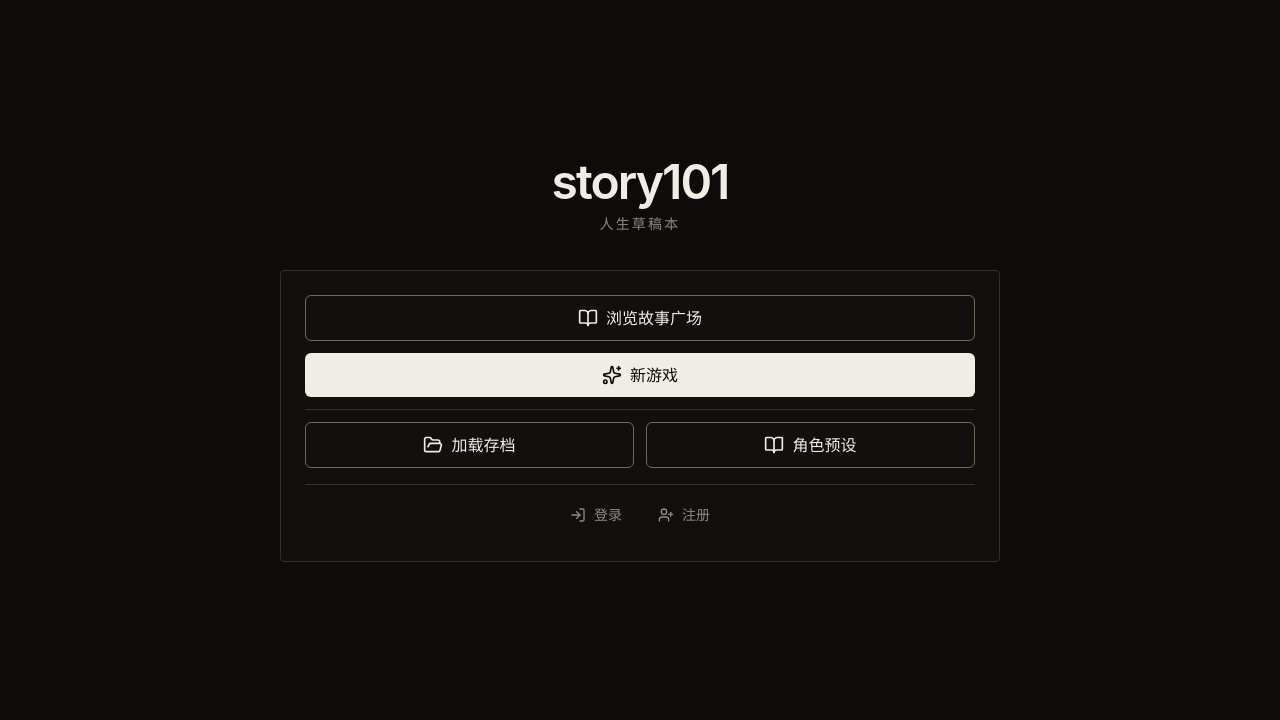
Scenario: WelcomePage › Unauthenticated user interactions › opens register sheet when clicking "新游戏" while not authenticated
Click the button "新游戏": (640, 375) [305,353,975,397]
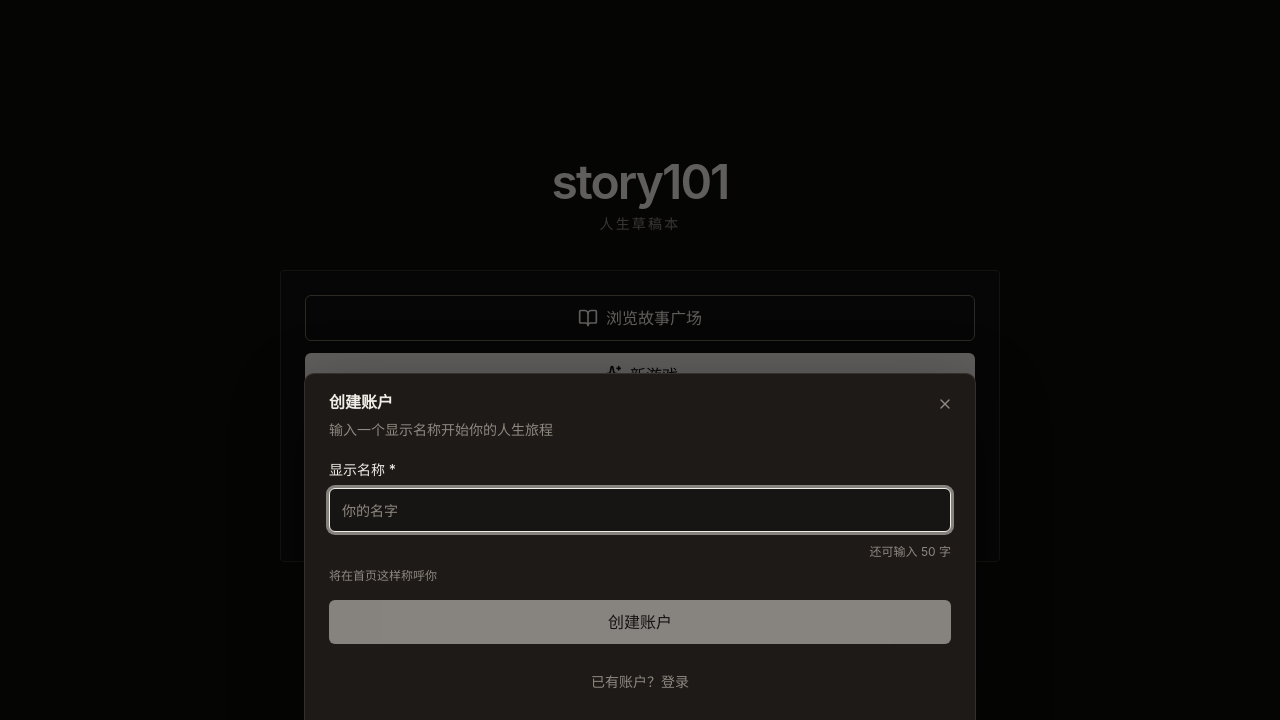
Result: the dialog "创建账户" is shown at [0,373,1279,719]
